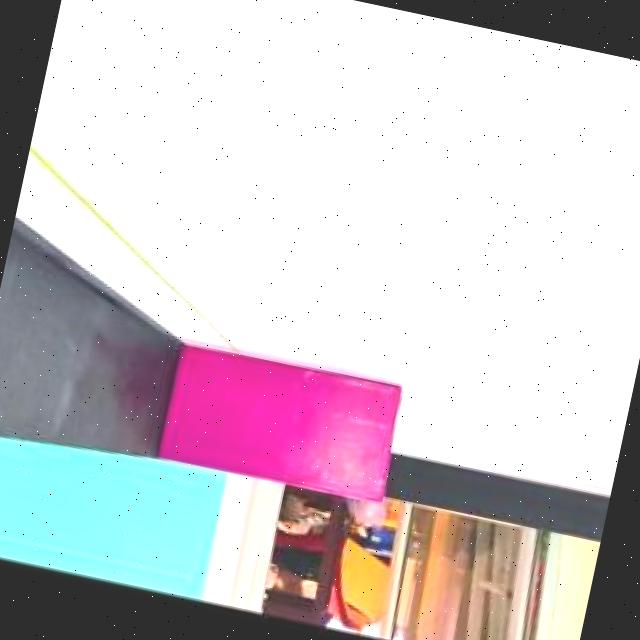xparking: (168, 345, 403, 503)
